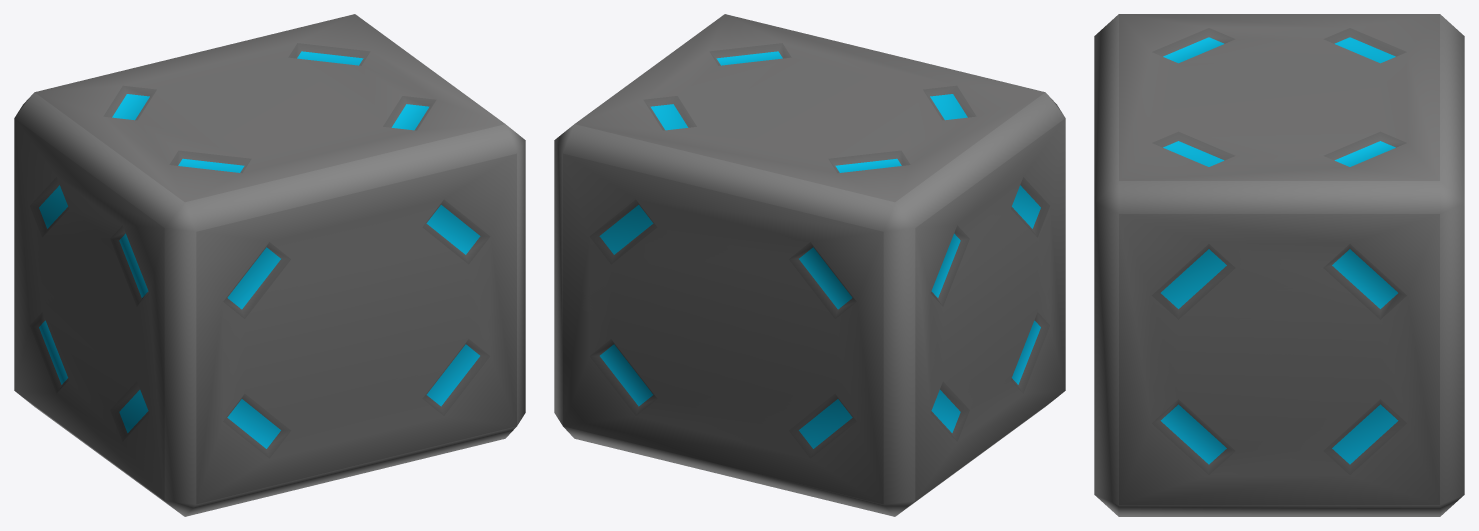
3 renders of one model, left to right at view 1: azimuth 30°, elevation 25°; view 2: azimuth 150°, elevation 25°; view 3: azimuth 270°, elevation 25°, orthographic. The views are drawn at different scales.
Visible parts, largest first — view 1: Box_003; view 2: Box_003; view 3: Box_003.
Boxes of the visible parts, <box> form: Box_003: <box>14,14,525,516</box>; Box_003: <box>554,14,1065,516</box>; Box_003: <box>1094,14,1464,516</box>.
Size of the model in its own units: 72 by 60 by 60.
